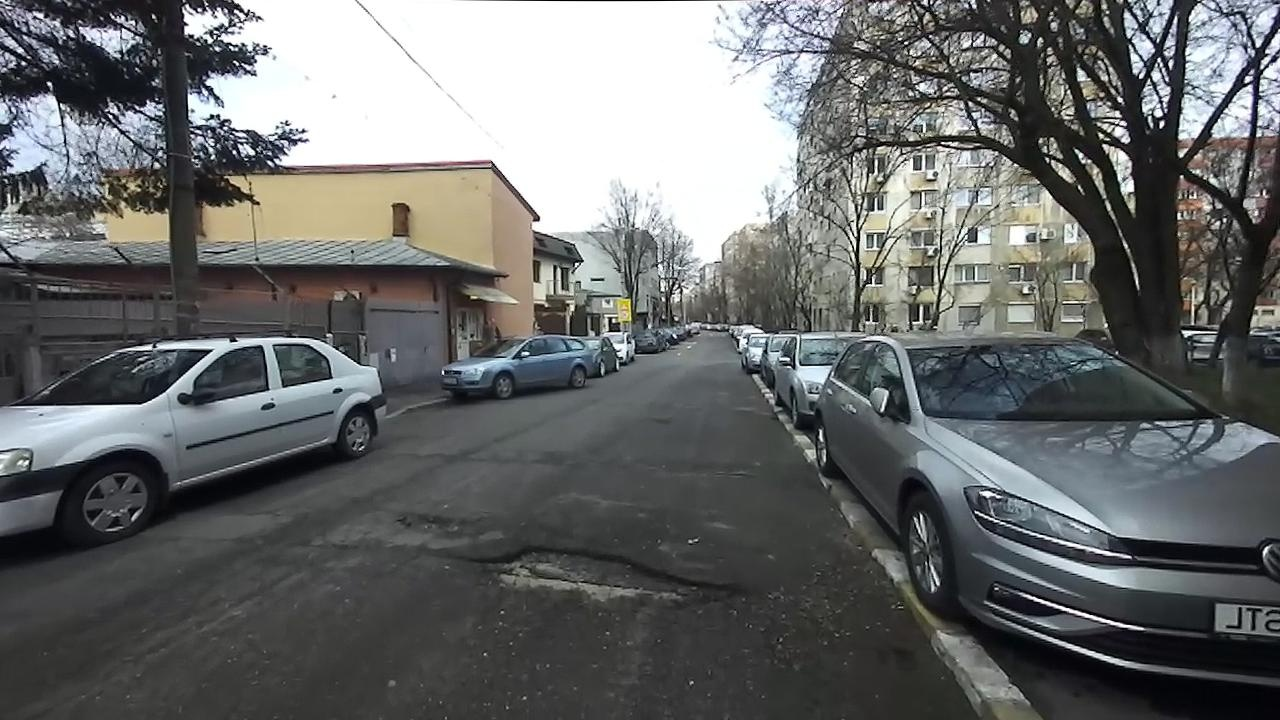pothole: (460, 543, 752, 613), (389, 505, 481, 536)
